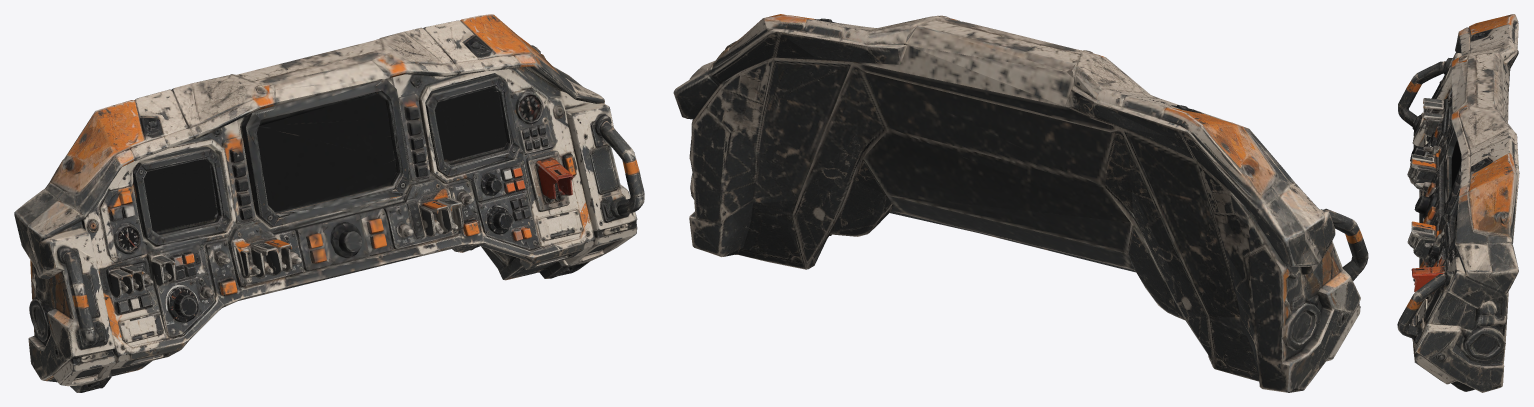
The picture shows the model from 3 angles, left to right: view 1: azimuth 30°, elevation 25°; view 2: azimuth 150°, elevation 25°; view 3: azimuth 270°, elevation 25°; orthographic projection. The views are drawn at different scales.
Parts seen in each view (by area): view 1: Mesh_0; view 2: Mesh_0; view 3: Mesh_0.
Boxes of the visible parts, bbox=[...] form: Mesh_0: bbox=[14, 14, 644, 392]; Mesh_0: bbox=[673, 14, 1368, 392]; Mesh_0: bbox=[1397, 14, 1519, 392].
Size of the model in its own units: 1.9 by 0.8457 by 0.4378.
1 material, 1 textured.
